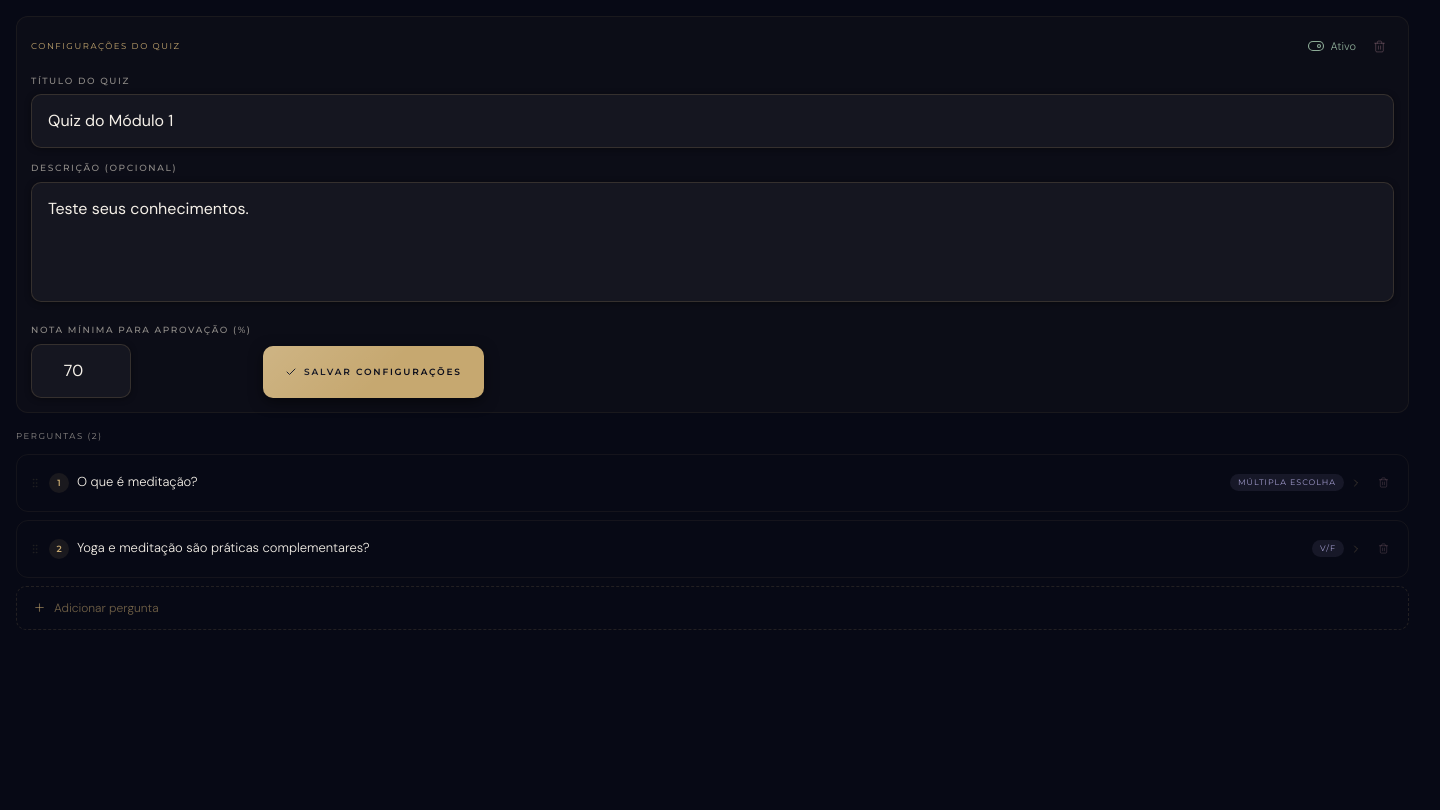
QuizEditor — add question › clicking 'Adicionar pergunta' shows the add-question form
Click the button with test id "add-question-btn": click(106, 608) [16,586,1409,630]
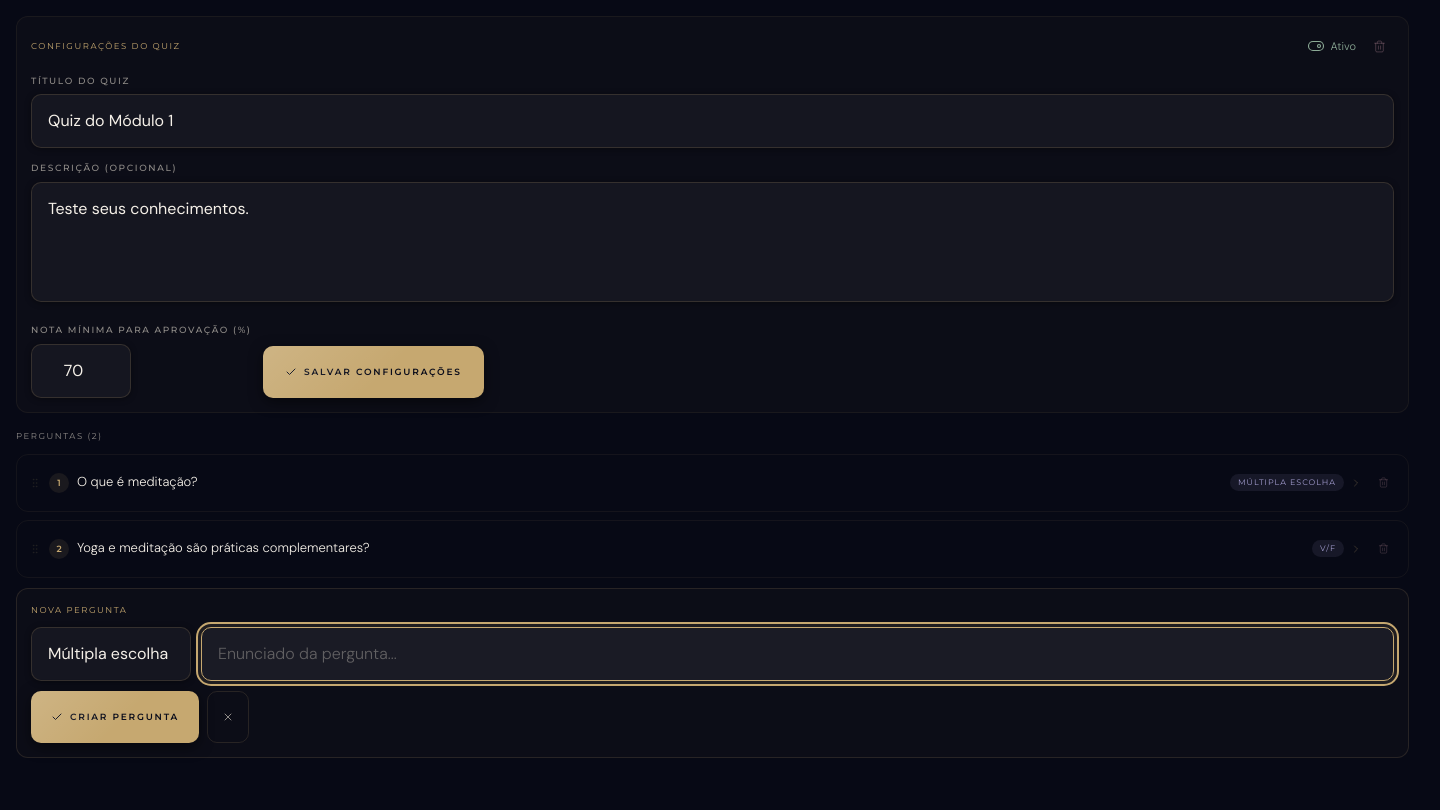
Check: the field with test id "new-question-text" is shown, box [201,627,1394,681]
